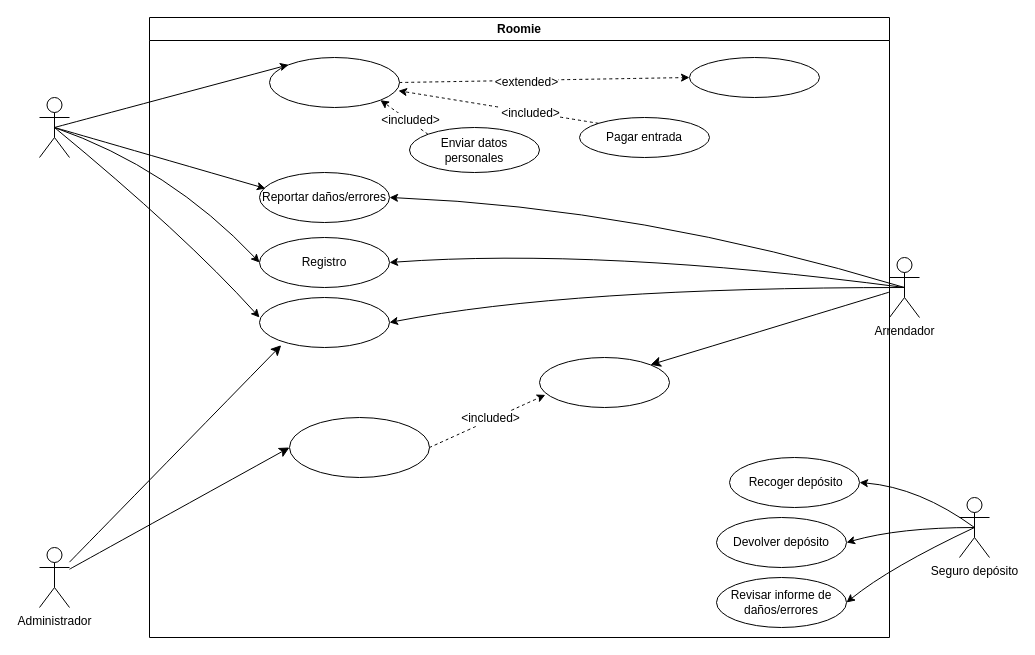
Some shapes in this 1035 by 655 pixel diagram are drawn without their labels. The centre of each missing label's shape, as x and y in pixels:
"Cancelar reserva" belongs at point (754, 77).
"Inquilino" belongs at point (54, 127).
"Log in" belongs at point (324, 322).
"Publicar anuncio" belongs at point (604, 382).
"Reservar habitación" belongs at point (334, 82).
"Verificar anuncio de la habitación" belongs at point (359, 447).
